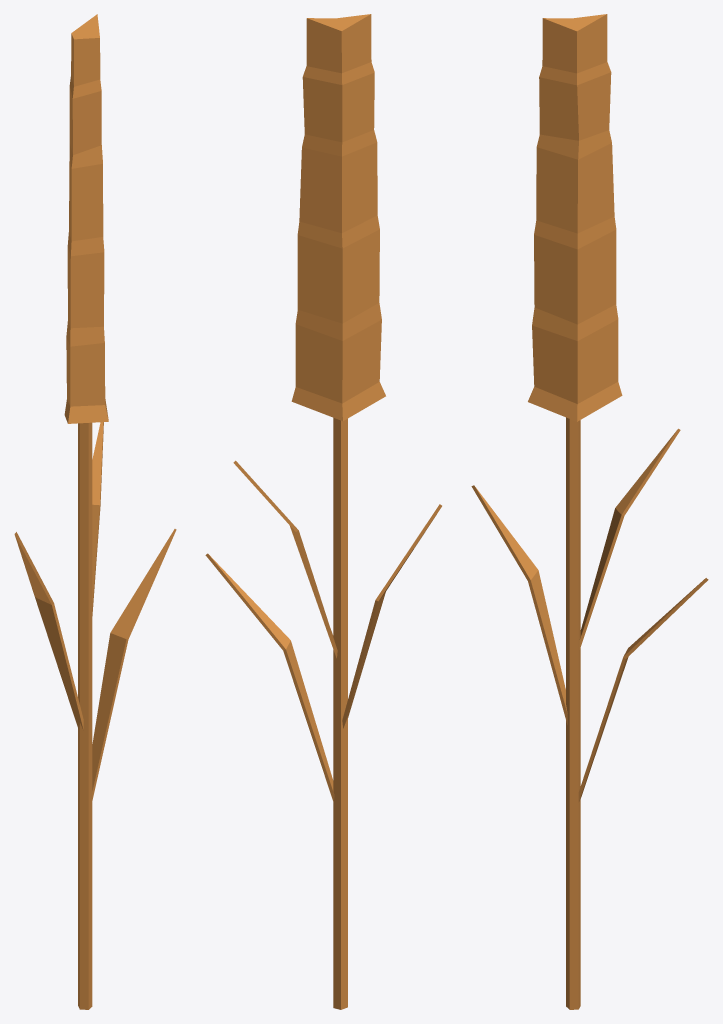
The model's file is wheat1.fbx.
The picture shows the model from 3 angles, left to right: view 1: azimuth 30°, elevation 25°; view 2: azimuth 150°, elevation 25°; view 3: azimuth 330°, elevation 25°; orthographic projection.
Parts seen in each view (by area): view 1: wheat1; view 2: wheat1; view 3: wheat1.
Boxes of the visible parts, x1,y1,x2,y2 form: wheat1: (14, 14, 176, 1009); wheat1: (205, 14, 441, 1009); wheat1: (471, 14, 708, 1009).
Size of the model in its own units: 69.93 by 330 by 35.67.
